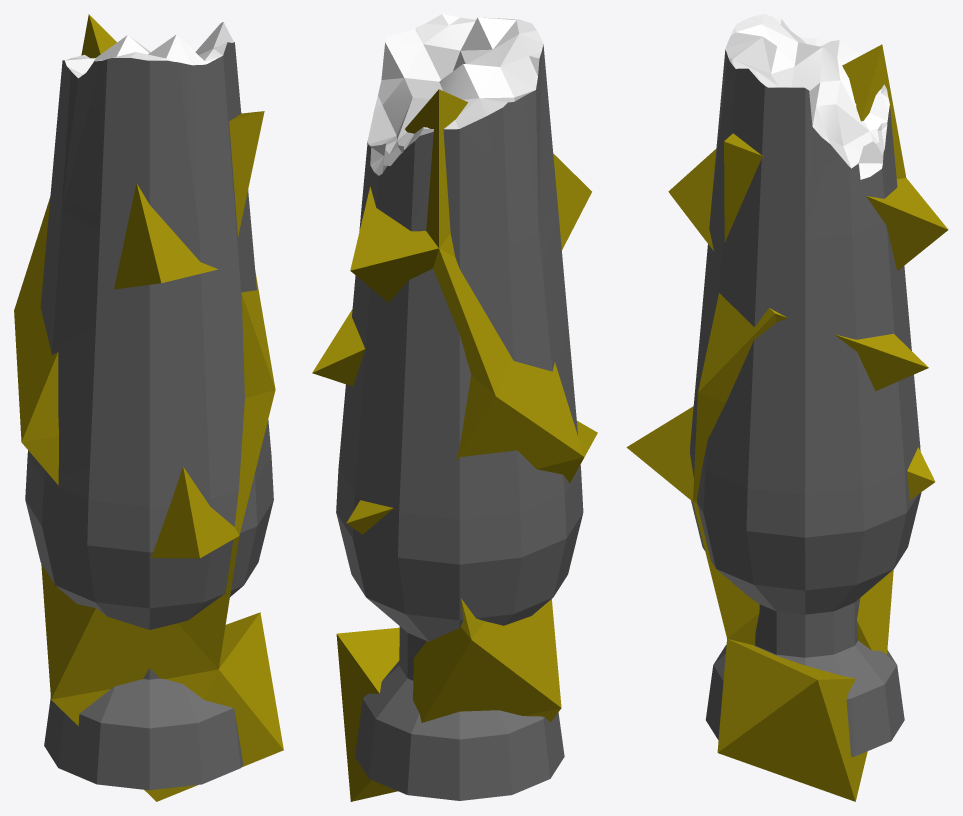
Rendered from SMT_Pillar_Range_10.fbx.
3 renders of one model, left to right at view 1: azimuth 30°, elevation 25°; view 2: azimuth 150°, elevation 25°; view 3: azimuth 270°, elevation 25°, orthographic. The views are drawn at different scales.
Visible parts, largest first — view 1: SM_Pillar_Range_10, chunk1_24, chunk6_2, chunk20_16, chunk18_14, chunk12_7, chunk25_21, chunk11_6, chunk17_13, chunk2_25, chunk3_26, chunk14_10 (+2 smaller); view 2: SM_Pillar_Range_10, chunk0_23, chunk19_15, chunk13_9, chunk1_24, chunk14_10, chunk20_16, chunk26_22, chunk5_1, chunk6_2, chunk22_18, chunk18_14 (+1 smaller); view 3: SM_Pillar_Range_10, chunk5_1, chunk6_2, chunk13_9, chunk12_7, chunk22_18, chunk25_21, chunk0_23, chunk26_22, chunk17_13, chunk18_14, chunk2_25 (+3 smaller).
Part boxes in pixels (<box>): SM_Pillar_Range_10: <box>25,22,273,790</box>; chunk1_24: <box>41,564,218,699</box>; chunk6_2: <box>157,612,283,801</box>; chunk20_16: <box>14,304,58,442</box>; chunk18_14: <box>114,183,217,289</box>; chunk12_7: <box>150,466,239,558</box>; chunk25_21: <box>241,271,275,398</box>; chunk11_6: <box>234,390,275,535</box>; chunk17_13: <box>229,111,264,236</box>; chunk2_25: <box>178,536,239,668</box>; chunk3_26: <box>51,669,218,801</box>; chunk14_10: <box>14,197,50,310</box>; SM_Pillar_Range_10: <box>336,14,583,800</box>; chunk0_23: <box>413,627,560,722</box>; chunk19_15: <box>456,375,583,469</box>; chunk13_9: <box>350,186,438,302</box>; chunk1_24: <box>472,599,561,707</box>; chunk14_10: <box>433,248,511,395</box>; chunk20_16: <box>496,358,584,456</box>; chunk26_22: <box>405,89,467,247</box>; chunk5_1: <box>336,634,397,801</box>; chunk6_2: <box>337,627,399,693</box>; chunk22_18: <box>312,309,365,386</box>; chunk18_14: <box>553,154,591,249</box>; SM_Pillar_Range_10: <box>689,14,921,756</box>; chunk5_1: <box>718,678,867,801</box>; chunk6_2: <box>717,639,854,752</box>; chunk13_9: <box>866,178,948,270</box>; chunk12_7: <box>626,406,693,501</box>; chunk22_18: <box>775,313,928,390</box>; chunk25_21: <box>698,293,777,392</box>; chunk0_23: <box>727,569,893,654</box>; chunk26_22: <box>842,44,906,178</box>; chunk17_13: <box>724,133,763,242</box>; chunk18_14: <box>668,149,716,250</box>; chunk2_25: <box>693,502,759,638</box>.
Size of the model in its own units: 90.84 by 275 by 110.
